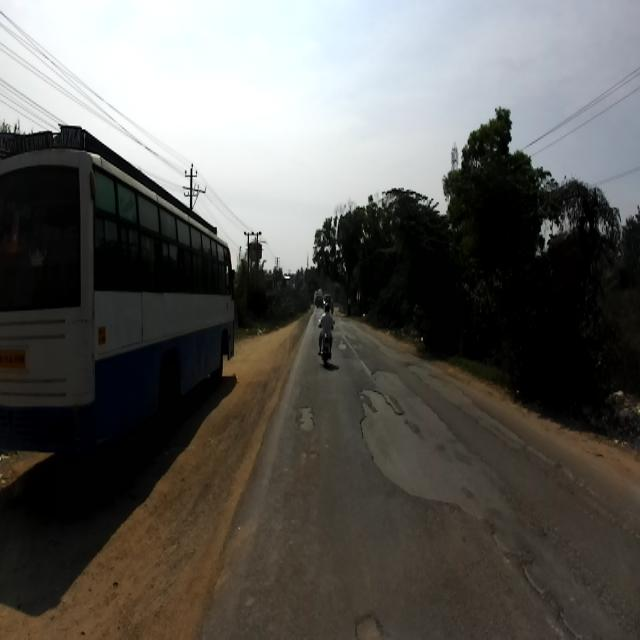bus ahead at: (0, 145, 249, 447)
